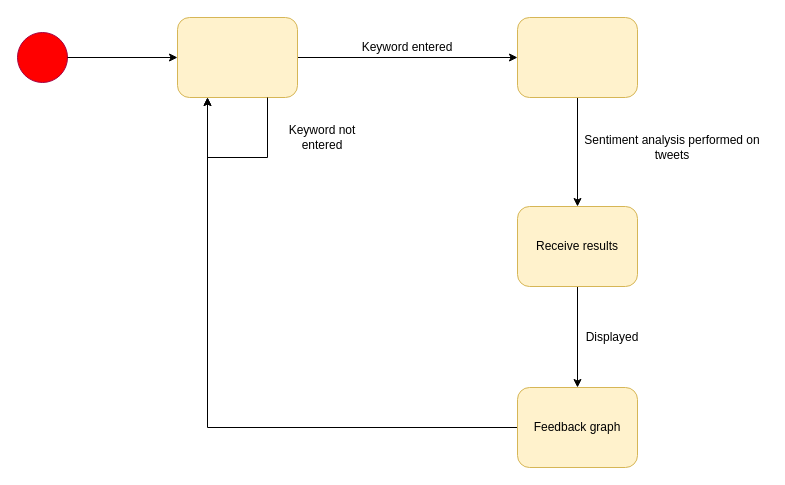
Some shapes in this 785 by 485 pixel diagram are drawn without their labels. Here are the shapes that lost their labels. From the top down, the centre of each, then its label:
At point 237,57: "Waiting for keyword".
At point 577,57: "Waiting for results".
